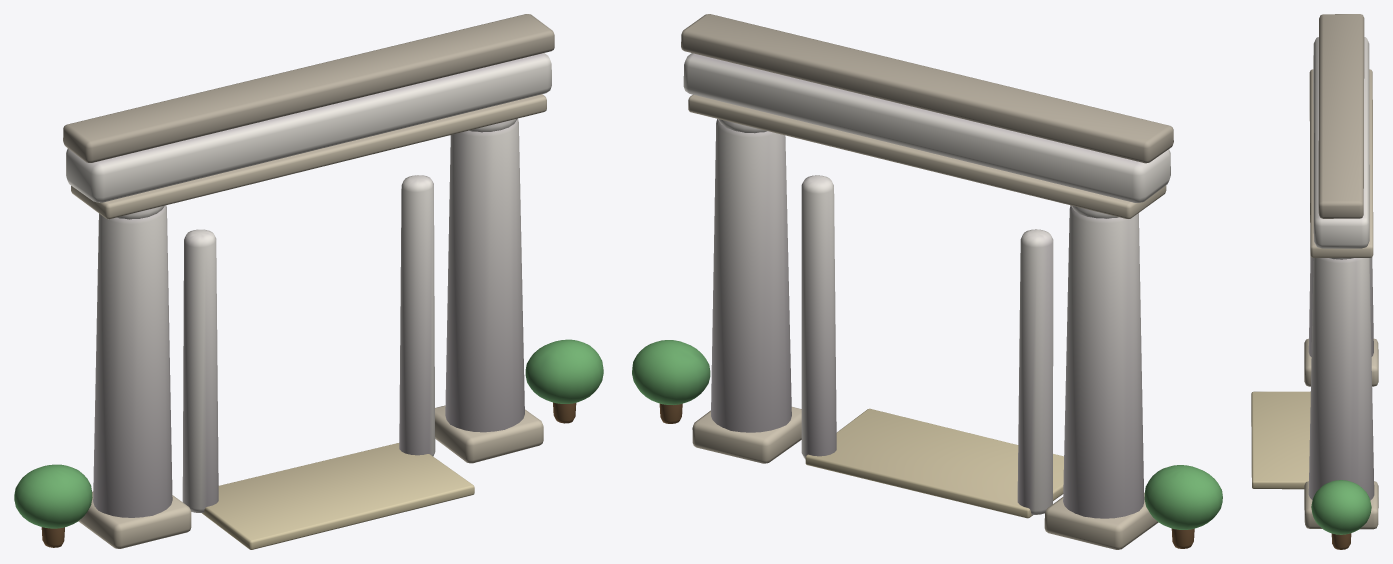
The picture shows the model from 3 angles, left to right: view 1: azimuth 30°, elevation 25°; view 2: azimuth 150°, elevation 25°; view 3: azimuth 270°, elevation 25°; orthographic projection. The views are drawn at different scales.
Parts seen in each view (by area): view 1: gate_d43c1405; view 2: gate_d43c1405; view 3: gate_d43c1405.
Part boxes in pixels (box(x1,y1,x2,y2)): gate_d43c1405: box(14, 14, 603, 549); gate_d43c1405: box(632, 14, 1222, 549); gate_d43c1405: box(1251, 14, 1378, 549).
Bounding box in the file's own units: 6.2 × 4.16 × 1.42.
